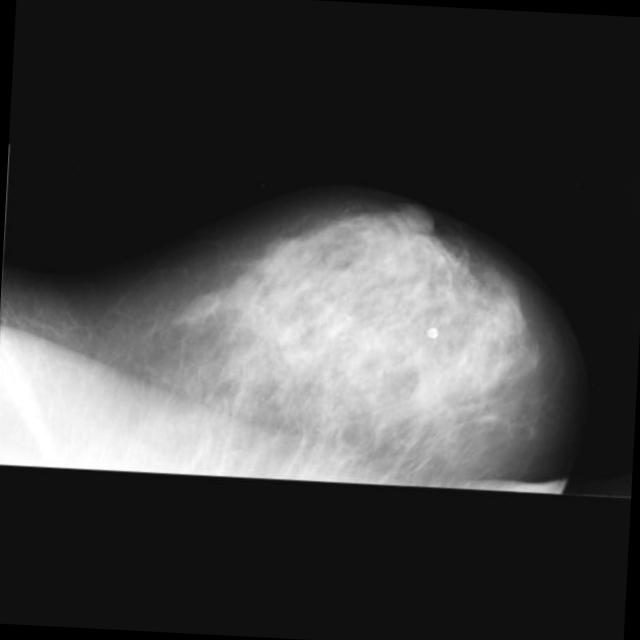CALC: (342, 310, 354, 323)
